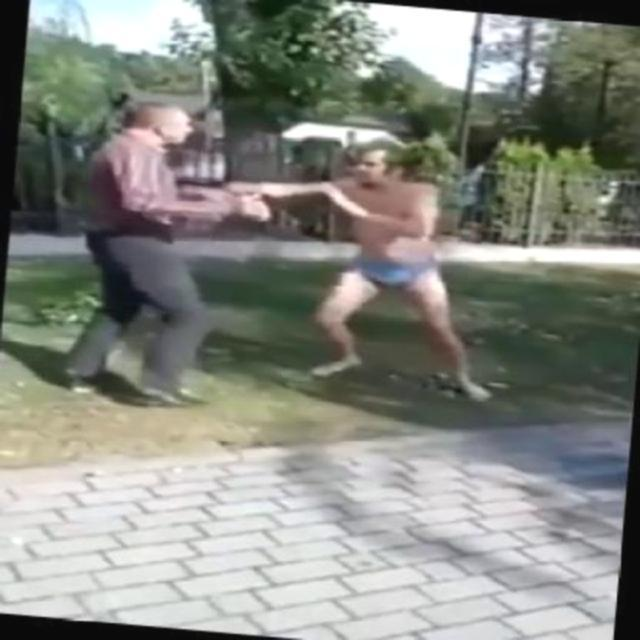fight: (58, 96, 490, 407)
